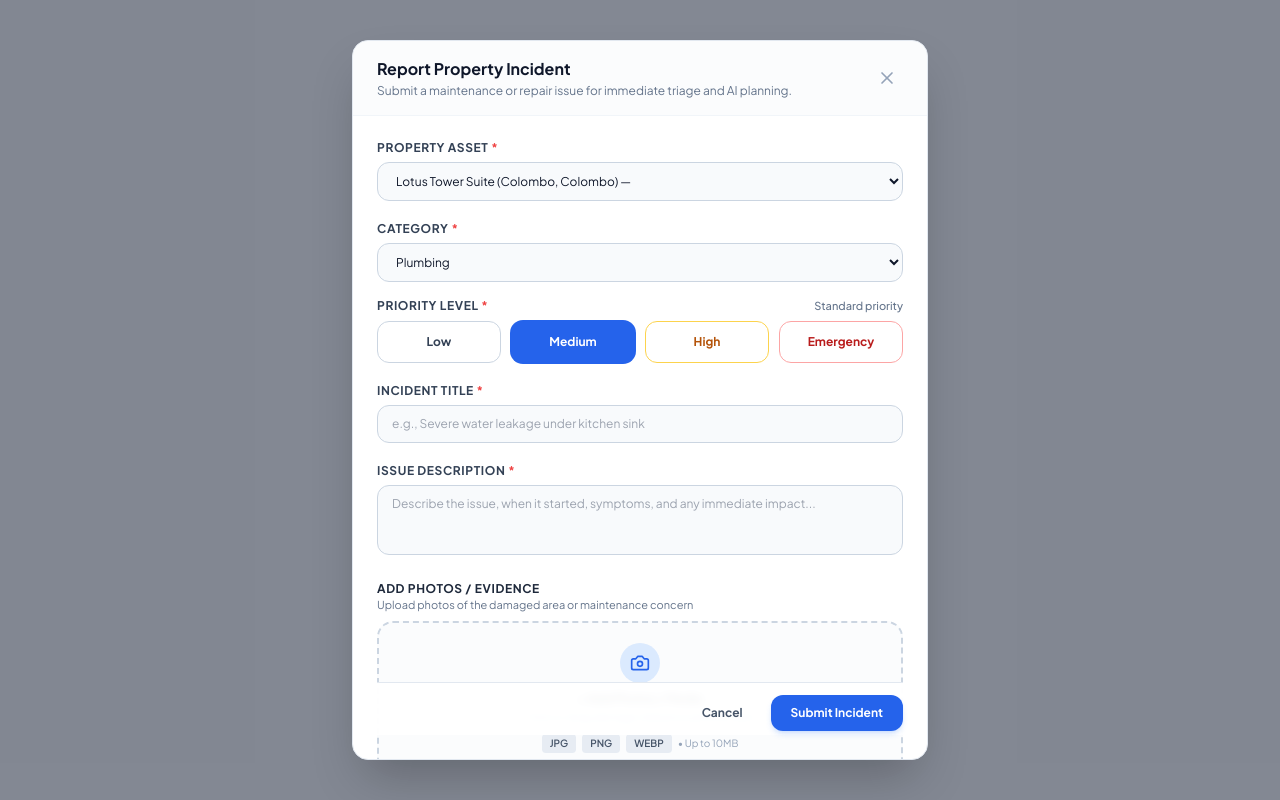
Test: ReportIncidentModal › handles API submission errors gracefully by displaying error banner
Check: the radio button labelled "Low" is shown, box [377,320,501,362]
Type "Electrical sparking" into the field with placeholder "e.g., Severe water leakage under kitchen sink".
click(640, 424); type("Electrical sparking")  # box [377,404,903,442]
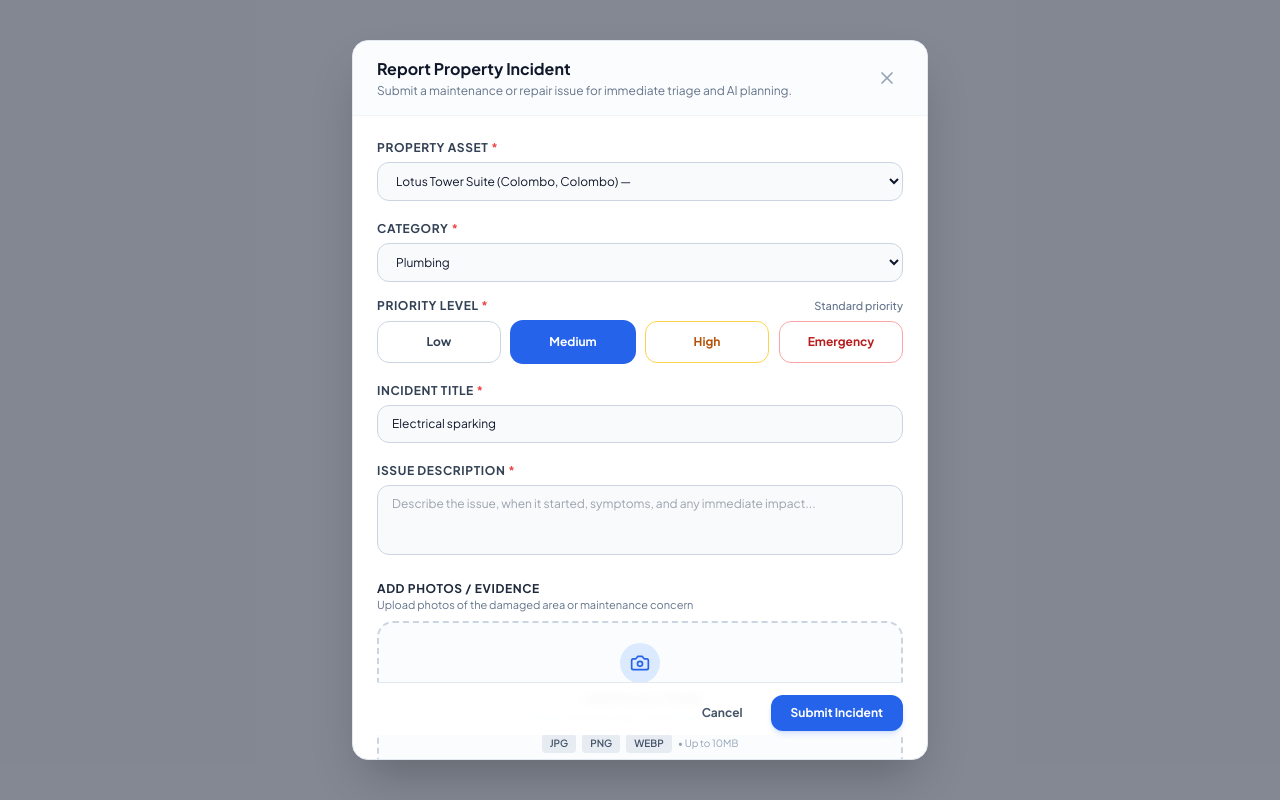
Replace the text in the text box with placeholder "Describe the issue" with "Sparking from main distribution board" at (640, 520), box [377,484,903,554]
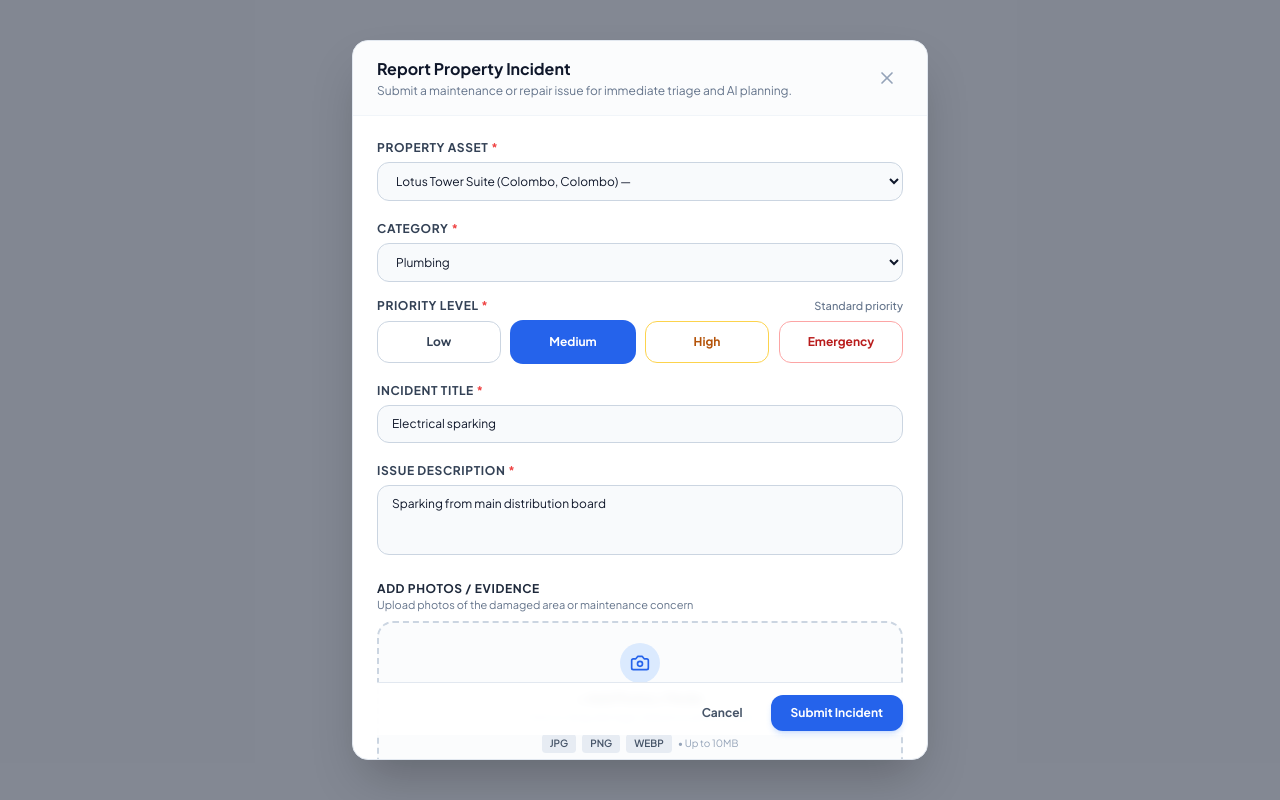
Click the button "Submit Incident".
click(837, 713)  # box [771,695,903,731]
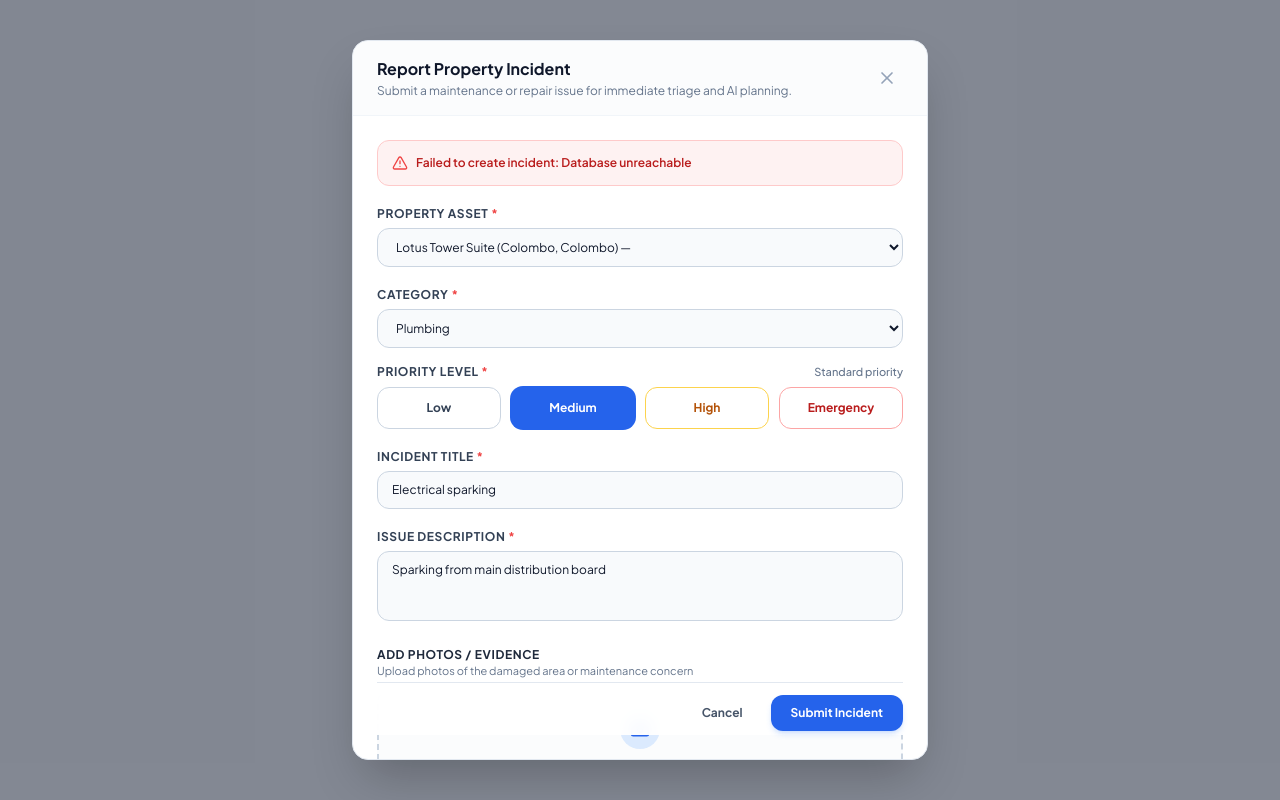
Check: the text "Failed to create incident: Database unreachable" is shown, box [416,155,692,171]
